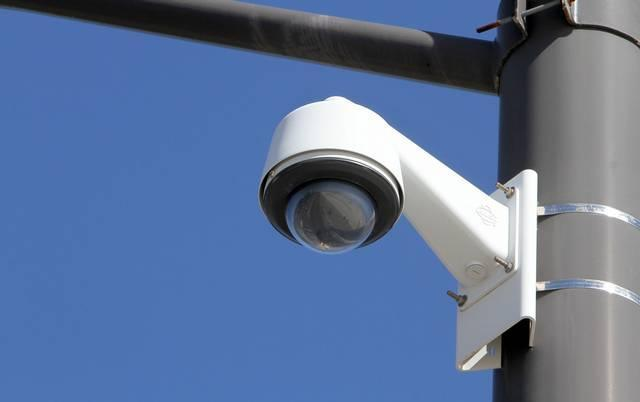Monitor: (1, 0, 637, 400), (257, 94, 539, 372)
